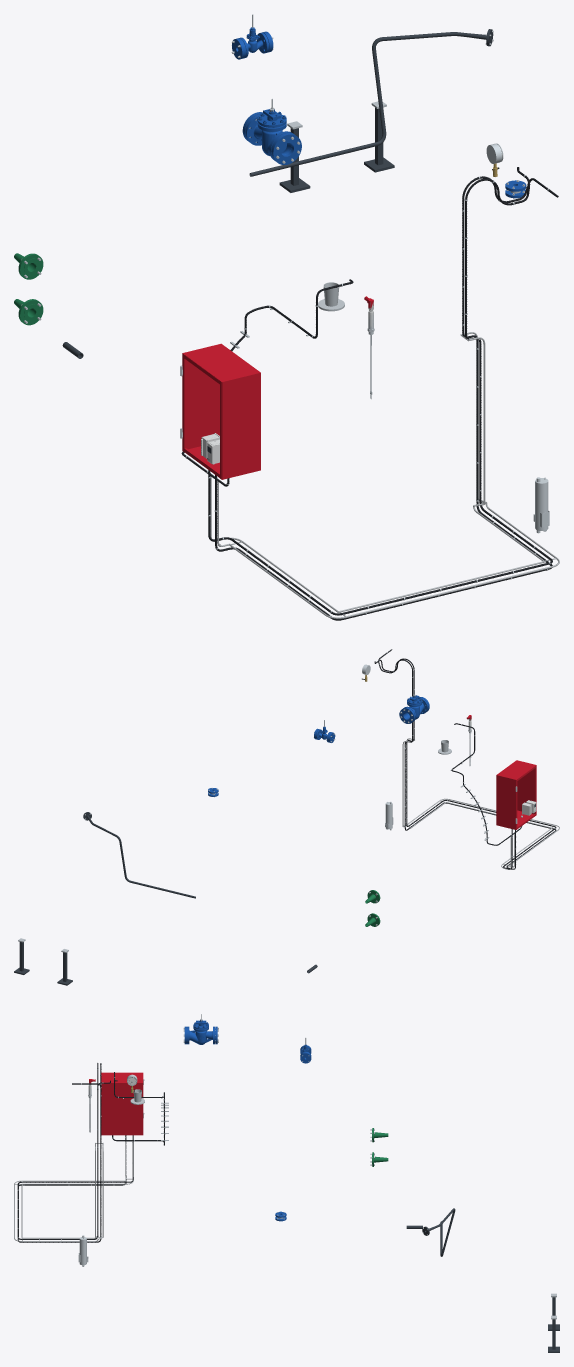
The picture shows the model from 3 angles, top to bottom: view 1: azimuth 30°, elevation 25°; view 2: azimuth 150°, elevation 25°; view 3: azimuth 270°, elevation 25°; orthographic projection. The views are drawn at different scales.
Parts seen in each view (by area): view 1: control_cabinet / control_cabinet_0.npz, cables / zinc, wiring_pressure_transmitter / black, wiring_pressure_switch_1 / black, tds_without_fv / dark, gpz CAD solid 0, trap_support / dark, eco_inlet_adapter / green, gpz / blue, sc9 / sc9_0.npz; view 2: control_cabinet / control_cabinet_0.npz, cables / zinc, wiring_pressure_transmitter / black, wiring_pressure_switch_1 / black, tds_without_fv / dark, trap_support / dark; view 3: control_cabinet / control_cabinet_0.npz, cables / zinc, wiring_pressure_transmitter / black, wiring_pressure_switch_1 / black, gpz CAD solid 0.
Boxes of the visible parts, <box> form: control_cabinet / control_cabinet_0.npz: <box>180,343,260,479</box>; cables / zinc: <box>210,332,559,618</box>; wiring_pressure_transmitter / black: <box>208,167,552,615</box>; wiring_pressure_switch_1 / black: <box>215,176,558,620</box>; tds_without_fv / dark: <box>249,29,493,176</box>; gpz CAD solid 0: <box>245,98,293,160</box>; trap_support / dark: <box>279,107,394,192</box>; eco_inlet_adapter / green: <box>14,253,43,325</box>; gpz / blue: <box>242,112,301,164</box>; sc9 / sc9_0.npz: <box>533,477,549,533</box>; control_cabinet / control_cabinet_0.npz: <box>496,760,536,829</box>; cables / zinc: <box>402,738,559,869</box>; wiring_pressure_transmitter / black: <box>374,658,556,869</box>; wiring_pressure_switch_1 / black: <box>378,649,556,869</box>; tds_without_fv / dark: <box>83,812,195,898</box>; trap_support / dark: <box>14,942,72,985</box>; control_cabinet / control_cabinet_0.npz: <box>101,1072,144,1135</box>; cables / zinc: <box>14,1141,133,1241</box>; wiring_pressure_transmitter / black: <box>17,1063,133,1239</box>; wiring_pressure_switch_1 / black: <box>17,1063,126,1242</box>; gpz CAD solid 0: <box>187,1014,215,1044</box>.
Size of the model in its own units: 4.59 by 3.05 by 6.8.
